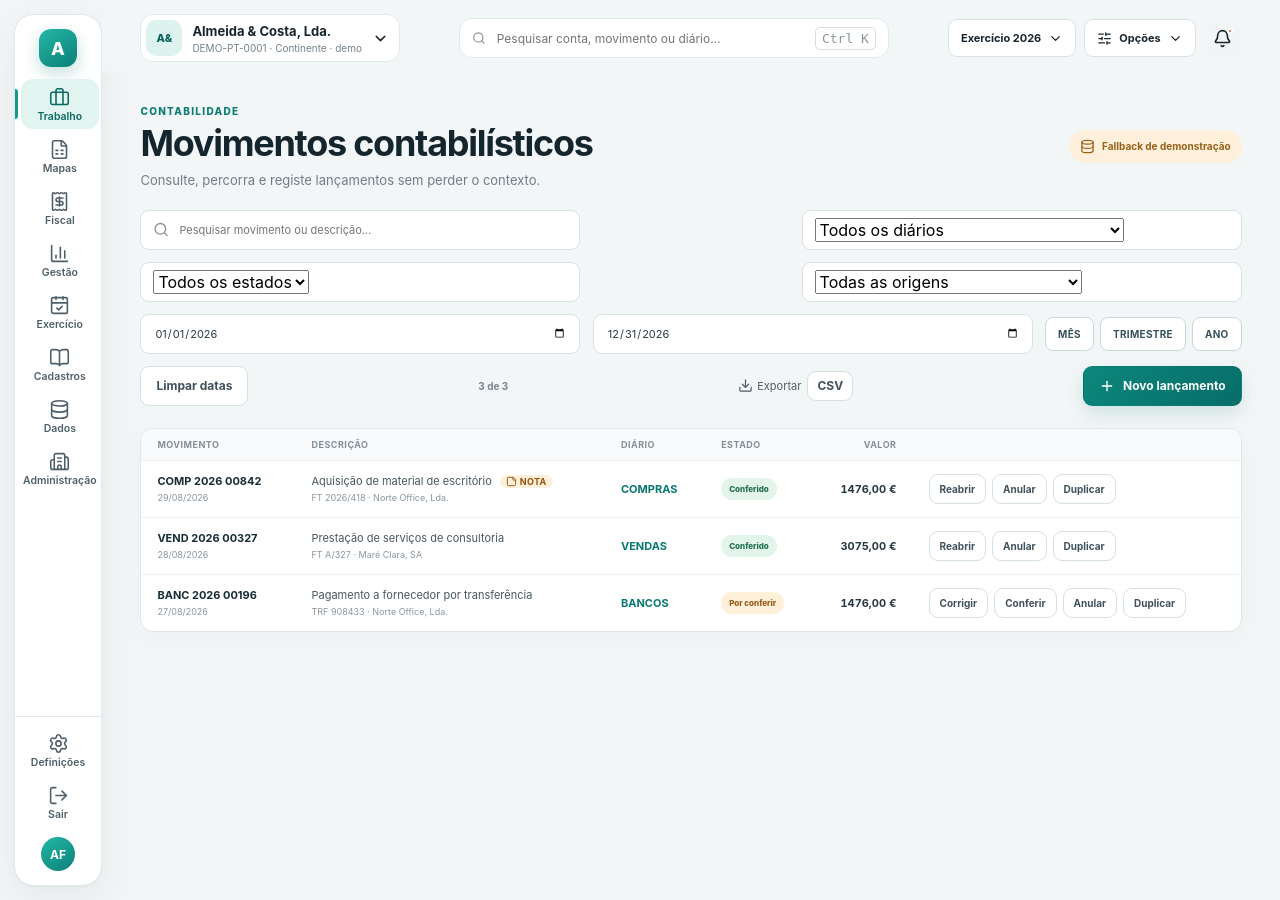
Test: App › filters the movement list by journal and status
Check: the link "COMP 2026 00842" is shown, box [157,474,261,488]
Select "Anulado" in the 2nd dropdown named "Estado" at (231, 282), box [153,270,309,294]
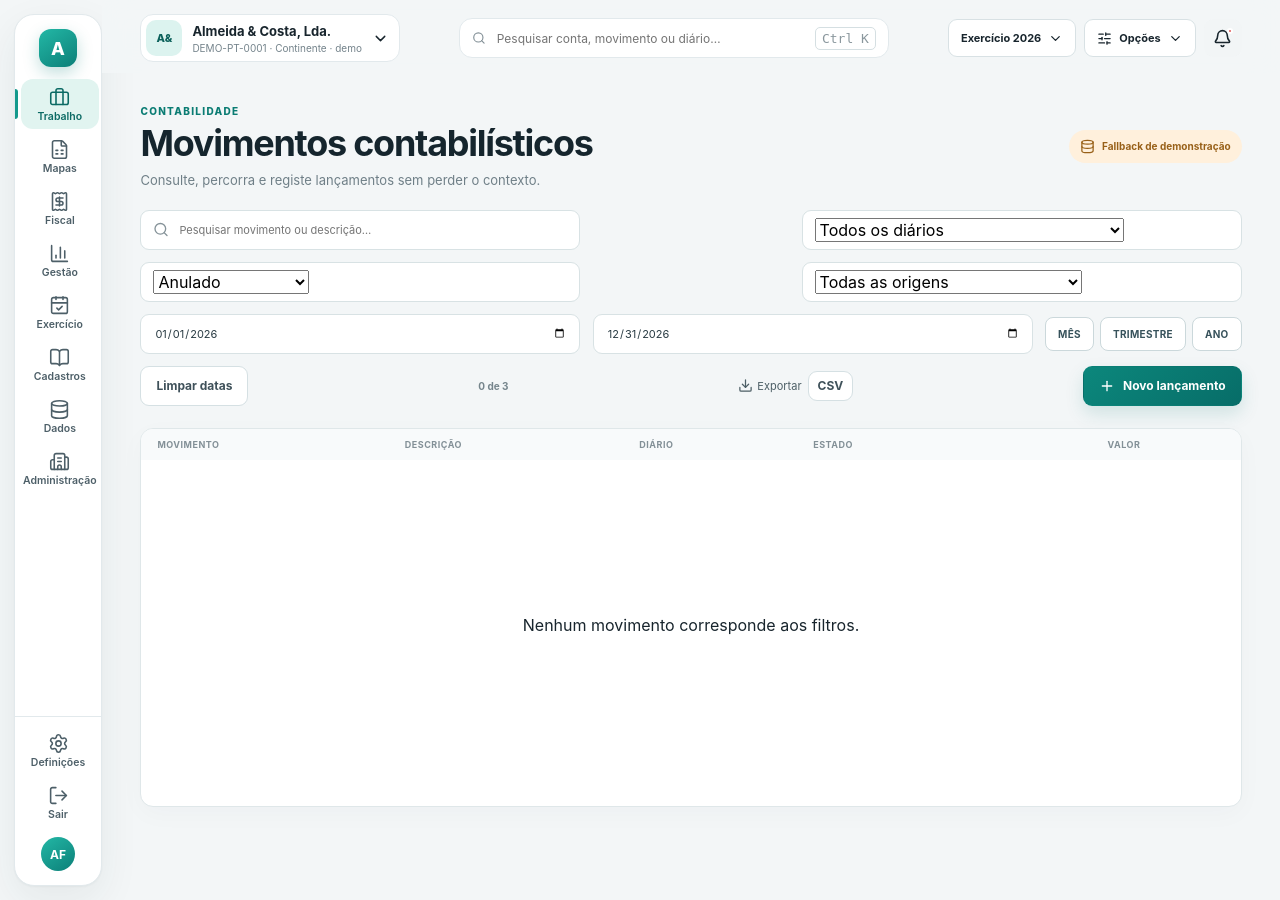
Check: the text "Nenhum movimento corresponde aos filtros." is shown, box [523,615,859,635]
Select "Por conferir" in the 2nd dropdown named "Estado" at (231, 282), box [153,270,309,294]
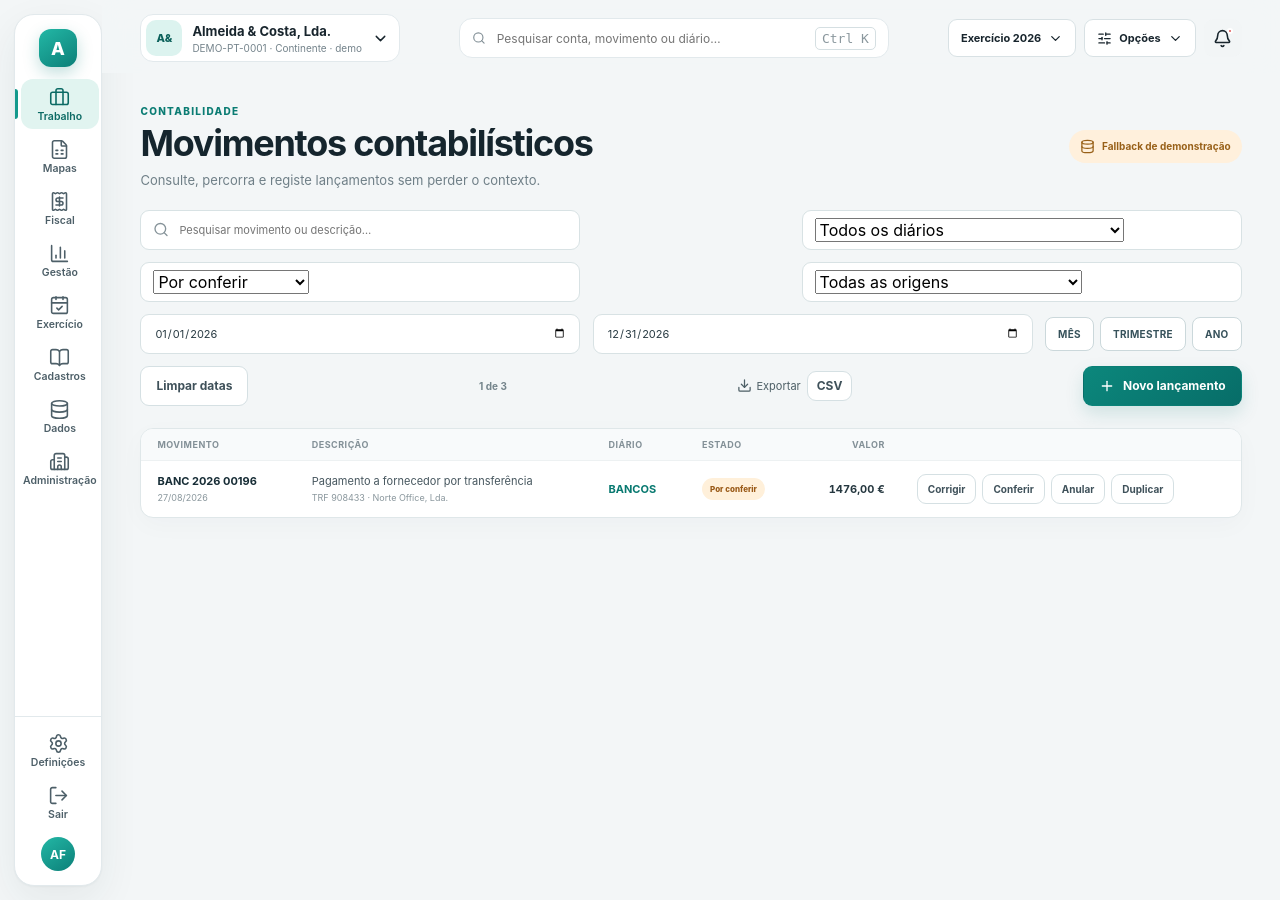
Check: the link "COMP 2026 00842" is not shown
Check: the link "BANC 2026 00196" is shown, box [157,474,257,488]
Select "Todos os estados" in the 2nd dropdown named "Estado" at (231, 282), box [153,270,309,294]
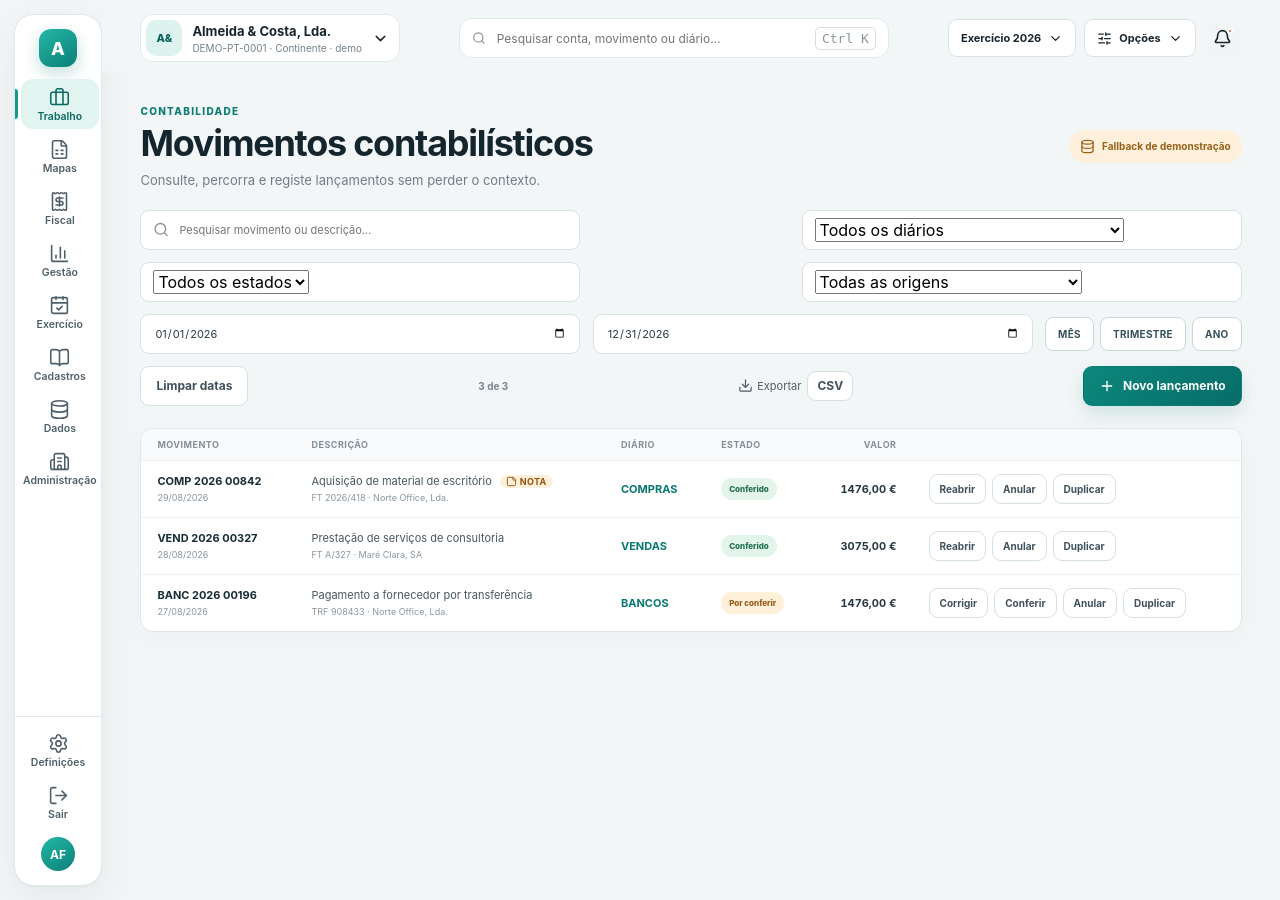
Select "Manual" in the 3rd dropdown named "Origem" at (948, 282), box [815,270,1082,294]
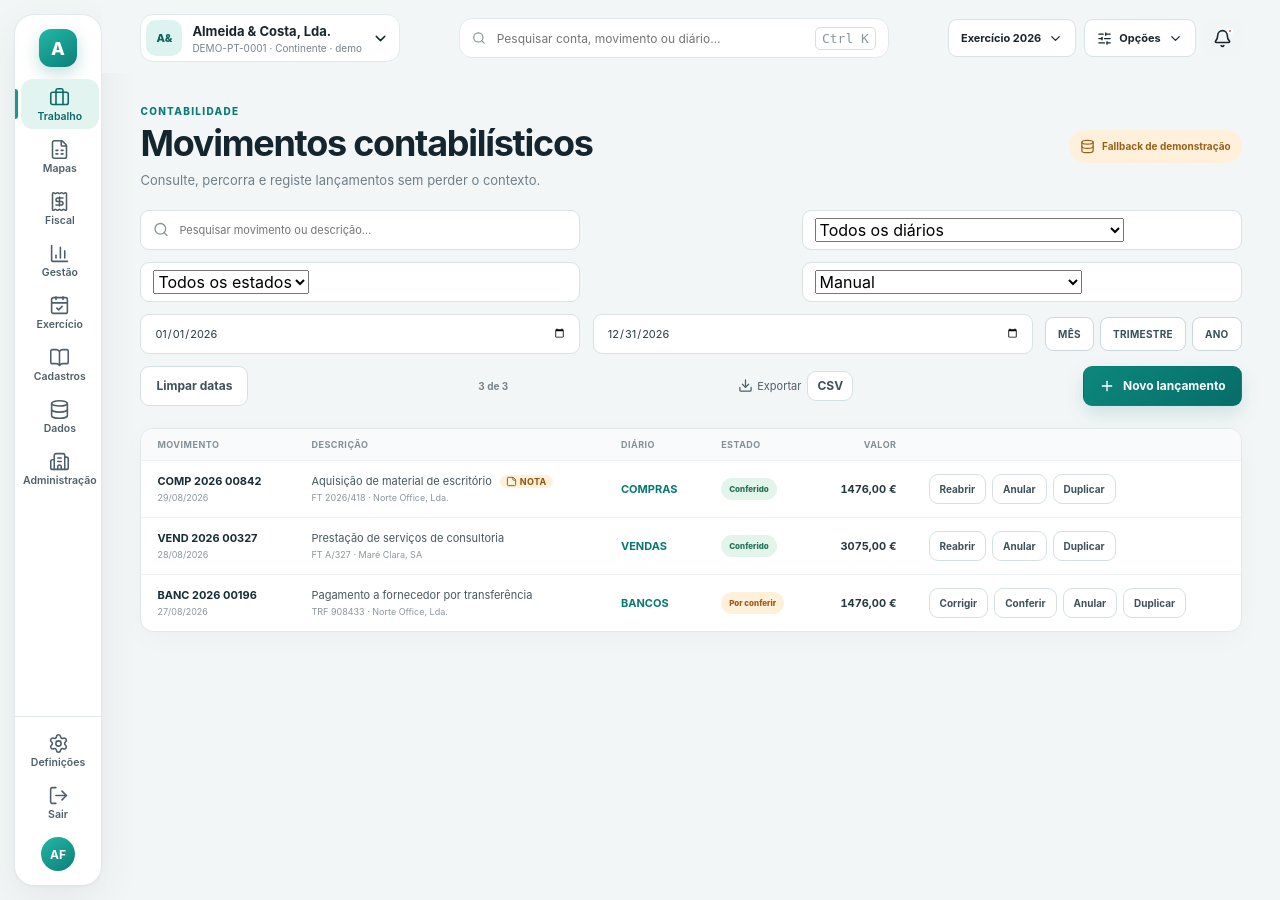
Check: the link "COMP 2026 00842" is shown, box [157,474,261,488]
Select "Importado do SAF-T" in the 3rd dropdown named "Origem" at (948, 282), box [815,270,1082,294]
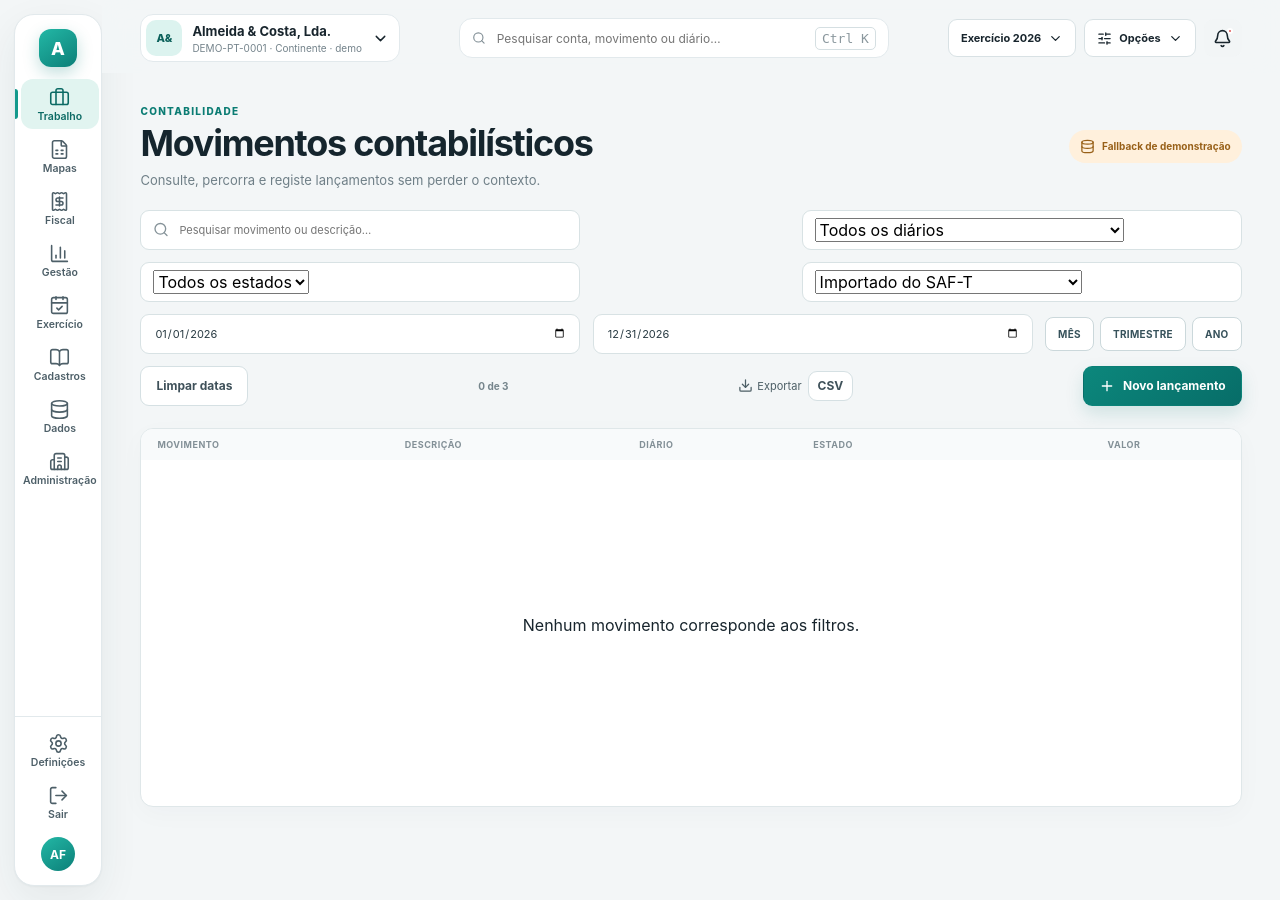
Check: the text "Nenhum movimento corresponde aos filtros." is shown, box [523,615,859,635]
